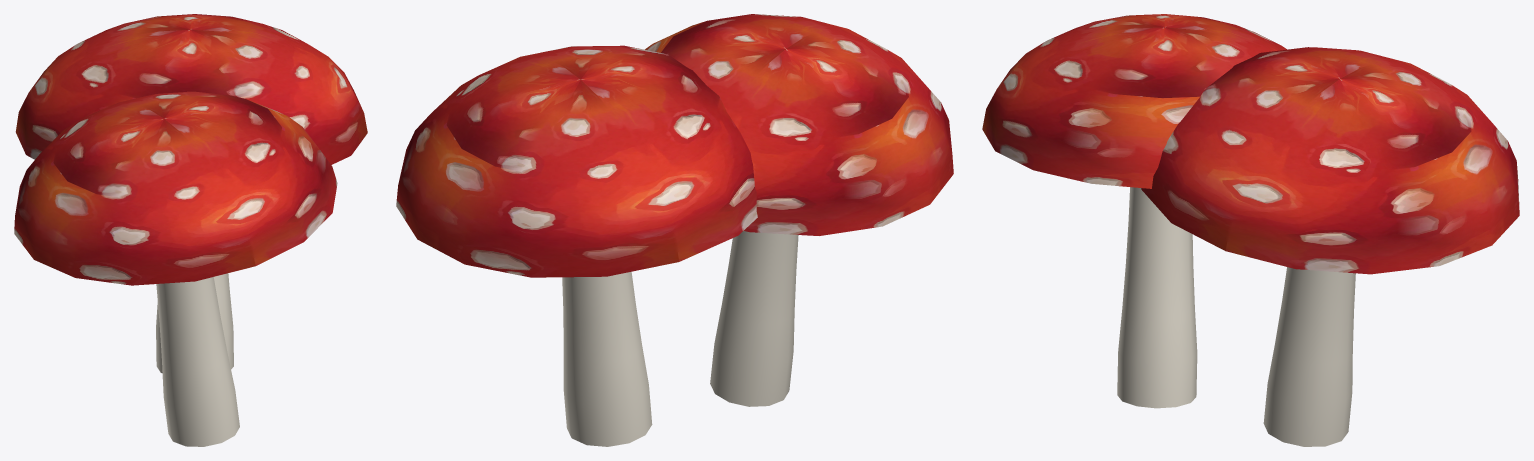
The model's file is fly_agaric1.gltf.
3 views of the same model, side by side, from view 1: azimuth 30°, elevation 25°; view 2: azimuth 150°, elevation 25°; view 3: azimuth 270°, elevation 25° (orthographic). The views are drawn at different scales.
Parts seen in each view (by area): view 1: fly_agaric1_cap_LOD0, fly_agaric1_stem_LOD0; view 2: fly_agaric1_cap_LOD0, fly_agaric1_stem_LOD0; view 3: fly_agaric1_cap_LOD0, fly_agaric1_stem_LOD0.
Boxes of the visible parts, <box> form: fly_agaric1_cap_LOD0: <box>14,14,367,285</box>; fly_agaric1_stem_LOD0: <box>156,273,239,446</box>; fly_agaric1_cap_LOD0: <box>396,14,953,277</box>; fly_agaric1_stem_LOD0: <box>562,231,798,446</box>; fly_agaric1_cap_LOD0: <box>982,14,1519,274</box>; fly_agaric1_stem_LOD0: <box>1117,187,1355,446</box>.
Size of what is drawn, in the model's own units: 0.3068 by 0.2504 by 0.339.
3 materials, 1 textured.
